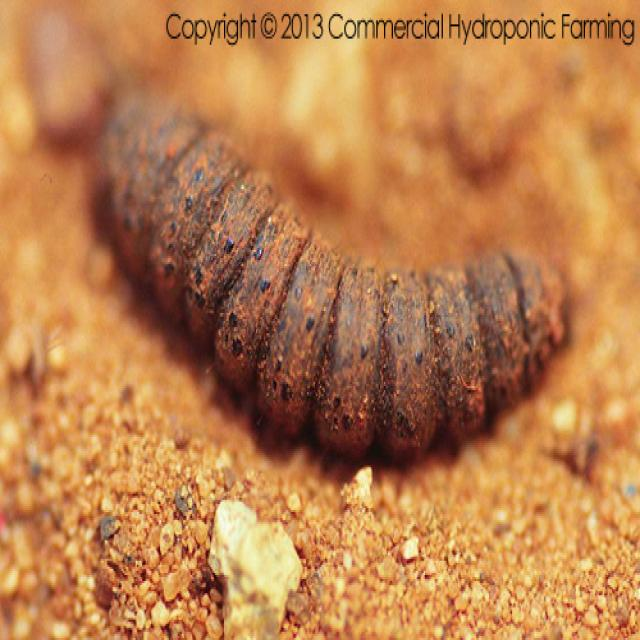worm: (102, 91, 572, 465)
